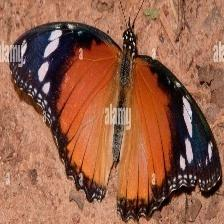butterfly: (9, 22, 223, 224)
